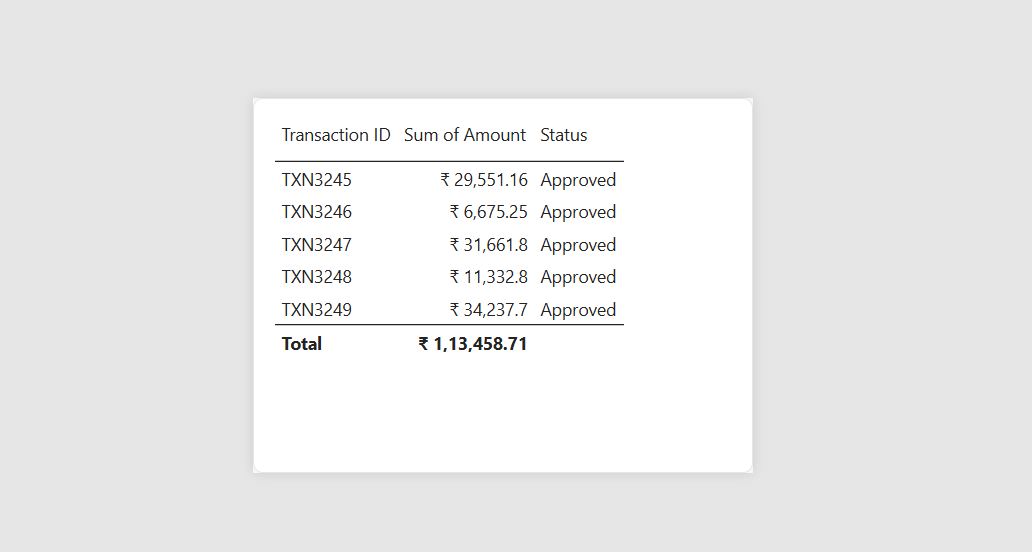

Layout of this report page (visuals, bound fields, positions):
{"tool":"powerbi","page":{"name":"Tooltip - Department Detail","canvas":[400,300],"ordinal":1},"visuals":[{"type":"tableEx","fields":{"Values":["Financial Transactions.Transaction ID","Sum(Financial Transactions.Amount)","Financial Transactions.Status"]},"box":[0,0,400,300],"z":0}]}

Visuals, with their boxes on the page's 400x300 design canvas (x1, y1, x2, y2). These are canvas units, not pixel positions in the 1032x552 screenshot, which may show the page scaled, cropped or inside an application window:
tableEx - Financial Transactions.Transaction ID x Sum(Financial Transactions.Amount): 0 0 400 300
